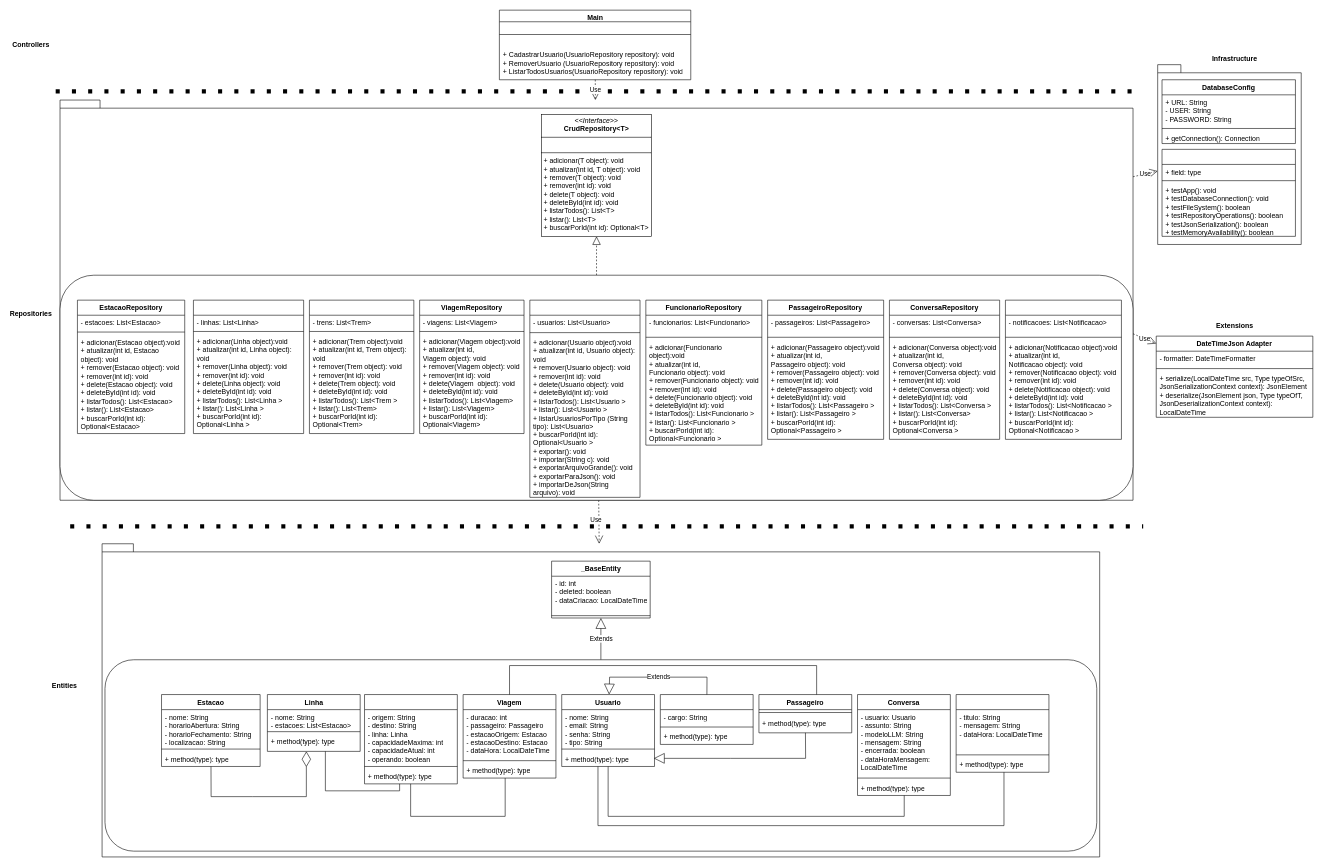
The diagram is 1323 pixels wide and 867 high, and some of its shapes have lost their labels. The box of each missing label's shape, as (x1, y1, x2, y2) in pixels:
AppTestConfig: (1161, 149, 1295, 236)
Funcionario: (660, 694, 753, 744)
LinhaRepository: (193, 300, 304, 434)
Notificacao: (956, 694, 1049, 772)
NotificacaoRepository: (1005, 300, 1121, 439)
Trem: (364, 694, 457, 784)
TremRepository: (309, 300, 414, 434)
UsuarioRepository: (529, 300, 640, 497)
